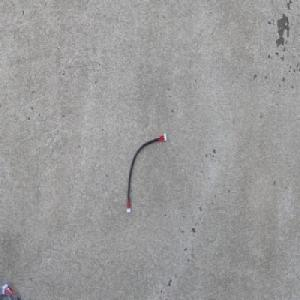Wire: (125, 130, 168, 215)
